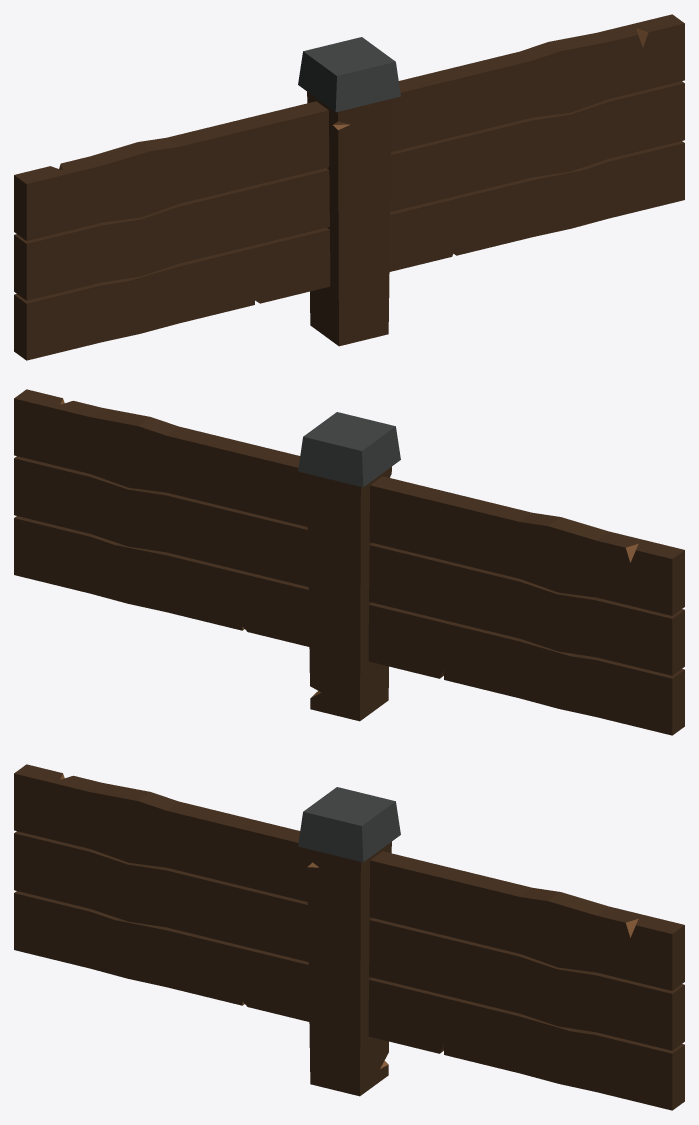
File: Fence_6_Dark_Brown.fbx
3 renders of one model, top to bottom at view 1: azimuth 30°, elevation 25°; view 2: azimuth 150°, elevation 25°; view 3: azimuth 330°, elevation 25°, orthographic.
Parts seen in each view (by area): view 1: Fence_6_Dark_Brown; view 2: Fence_6_Dark_Brown; view 3: Fence_6_Dark_Brown.
Part boxes in pixels (left/top/right/bottom): Fence_6_Dark_Brown: left=14, top=14, right=684, bottom=360; Fence_6_Dark_Brown: left=14, top=389, right=684, bottom=735; Fence_6_Dark_Brown: left=14, top=764, right=684, bottom=1110.
Bounding box in the file's own units: 242 × 96 × 24.
